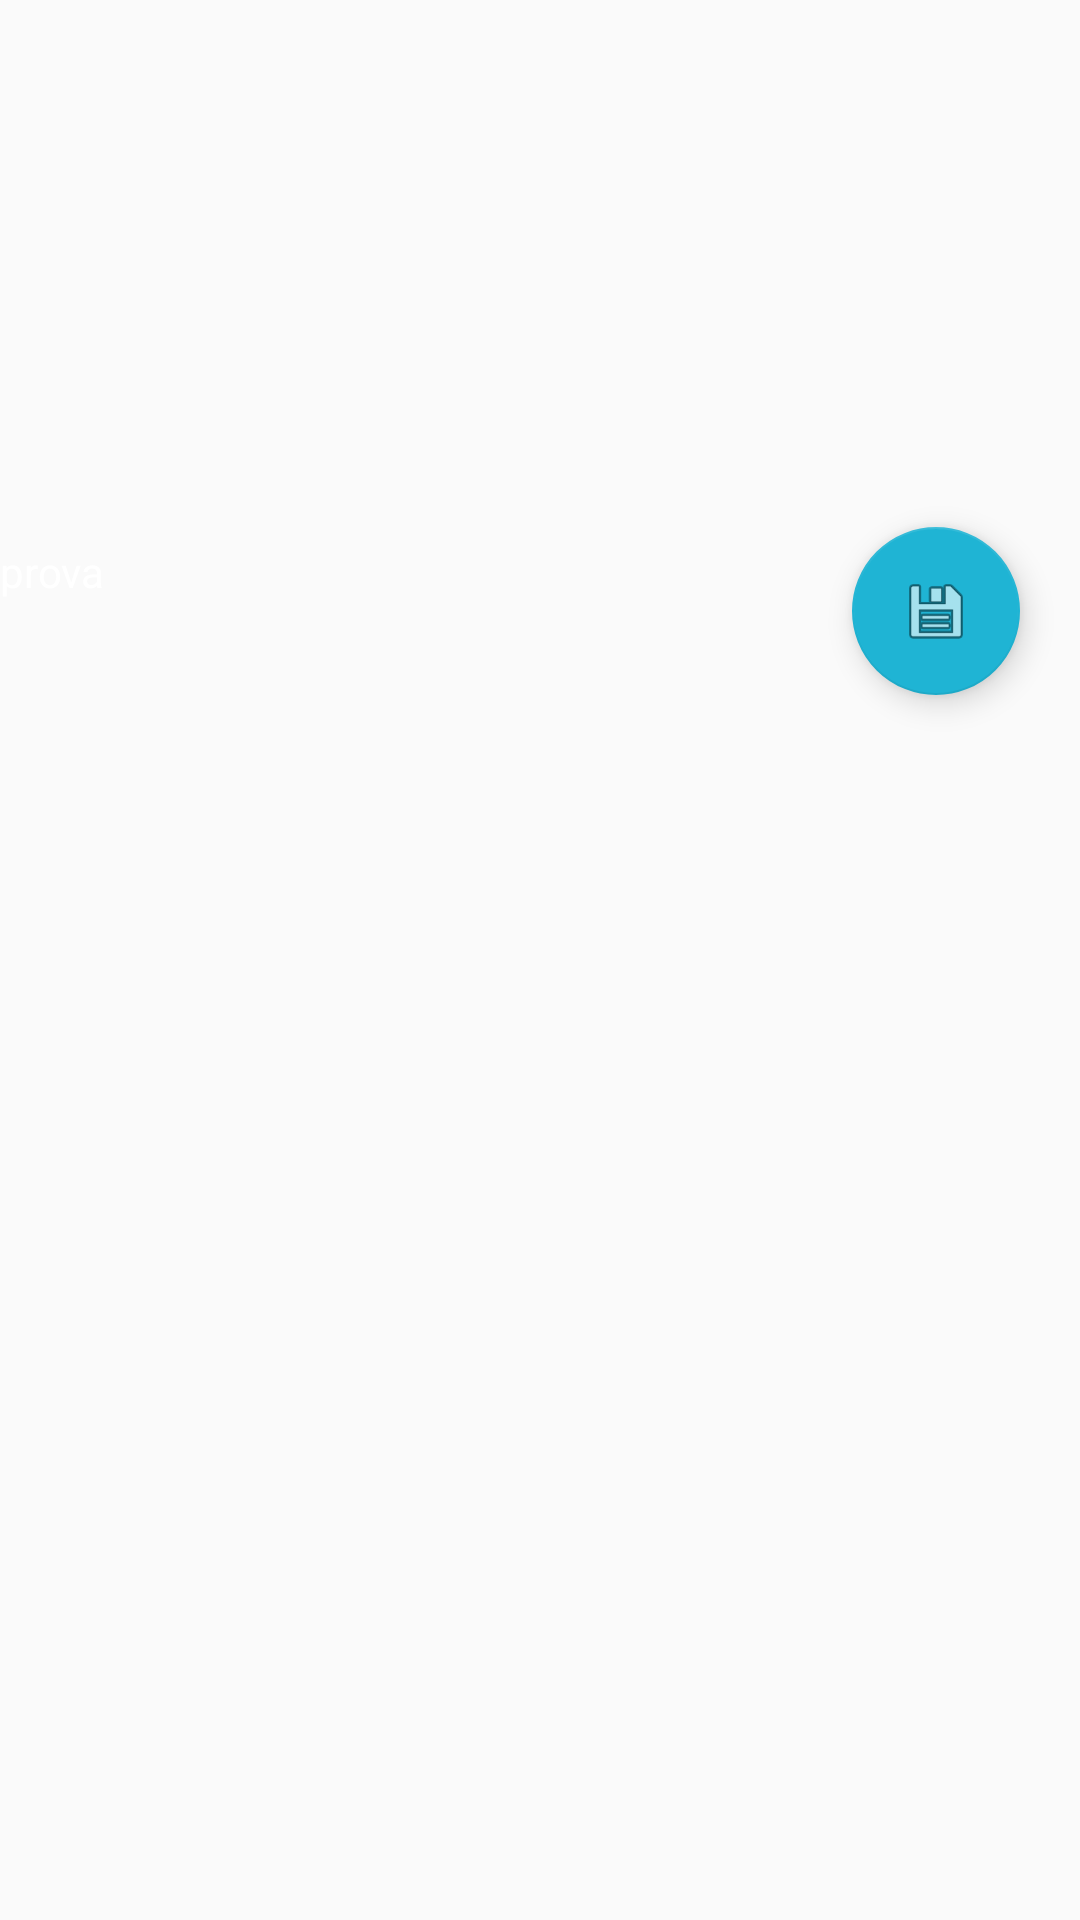

Locate icon controls on the screen. Image size 1080 × 1920, boxes as (x1, y1, x2, y2).
save: (852, 527, 1020, 695)
